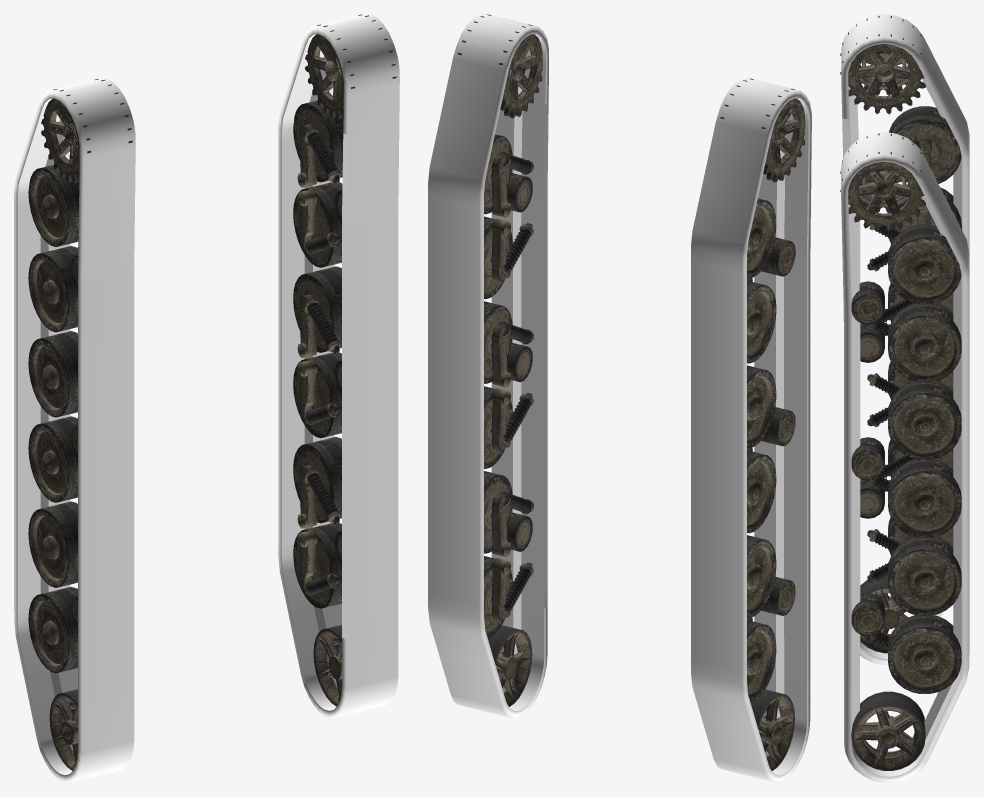
File: Chassis.glb
3 views of the same model, side by side, from view 1: azimuth 30°, elevation 25°; view 2: azimuth 150°, elevation 25°; view 3: azimuth 270°, elevation 25° (orthographic). The views are drawn at different scales.
Visible parts, largest first — view 1: set_0_group_0, set_1_group_0, set_3_group_0, set_2_group_0; view 2: set_0_group_0, set_1_group_0, set_3_group_0, set_2_group_0; view 3: set_3_group_0, set_1_group_0, set_2_group_0, set_0_group_0.
Part boxes in pixels (box(x1,y1,x2,y2)): set_0_group_0: box(14, 78, 135, 782); set_1_group_0: box(278, 14, 399, 718); set_3_group_0: box(293, 14, 396, 706); set_2_group_0: box(28, 78, 132, 770); set_0_group_0: box(691, 78, 811, 782); set_1_group_0: box(428, 14, 548, 718); set_3_group_0: box(457, 14, 542, 706); set_2_group_0: box(720, 78, 805, 770); set_3_group_0: box(840, 133, 961, 770); set_1_group_0: box(841, 132, 969, 782); set_2_group_0: box(840, 16, 961, 653); set_0_group_0: box(841, 14, 969, 664).
Size of the model in its own units: 3.19 by 6.6 by 1.23.
Materials: 4 (2 with a texture image).
